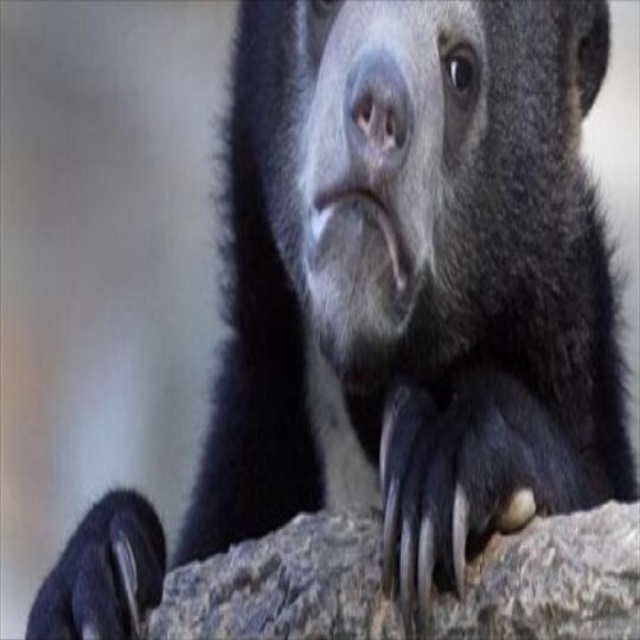Bear: (22, 0, 639, 638)
